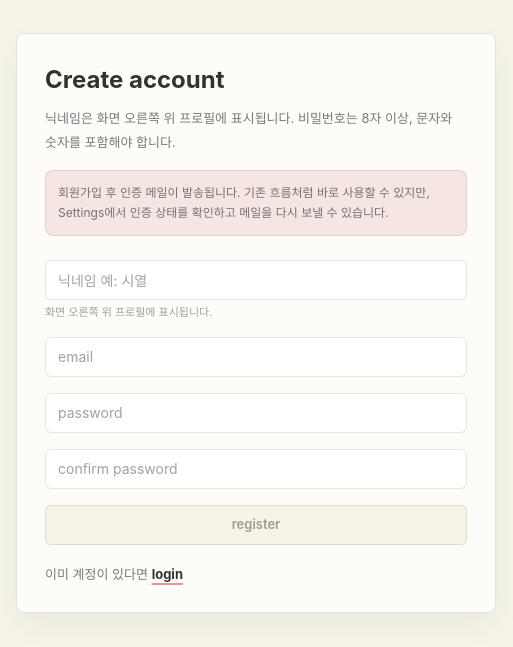
RegisterPage › requires nickname
Type "user@example.com" into the field with placeholder "email" at {"x": 256, "y": 356}, box [45,336,467,376]
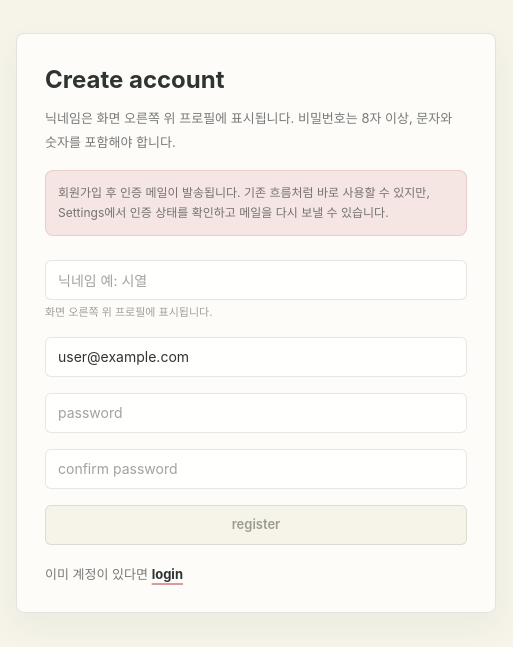
Type "password123" into the password field with placeholder "password" at {"x": 256, "y": 412}, box [45,392,467,432]
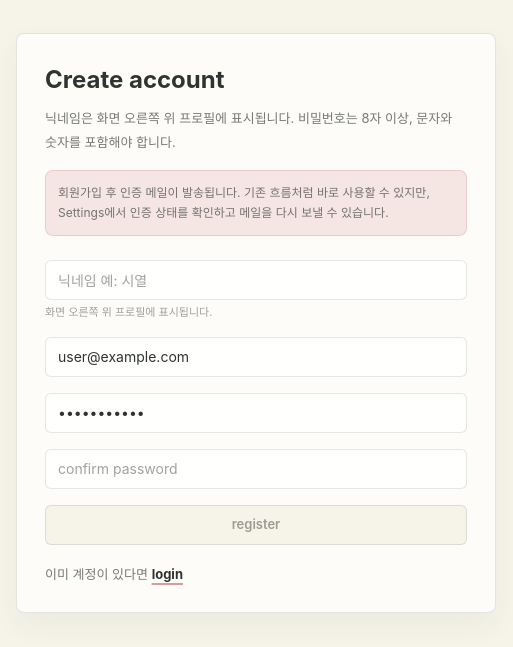
Type "password123" into the password field with placeholder "confirm password" at {"x": 256, "y": 468}, box [45,448,467,488]
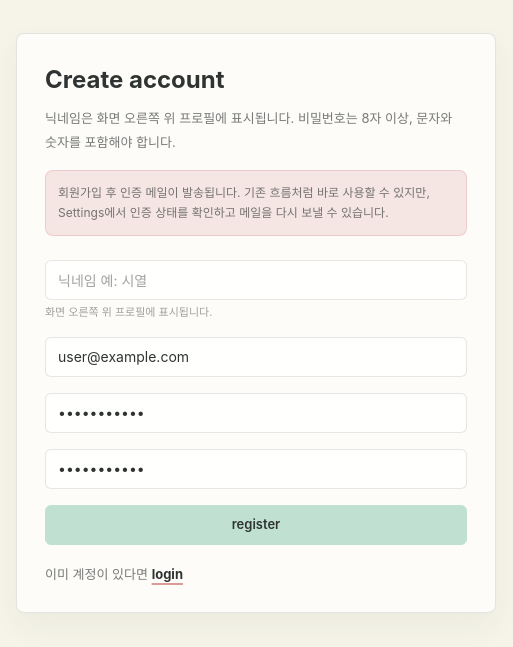
Click the button "register" at {"x": 256, "y": 524}, box [45,504,467,544]
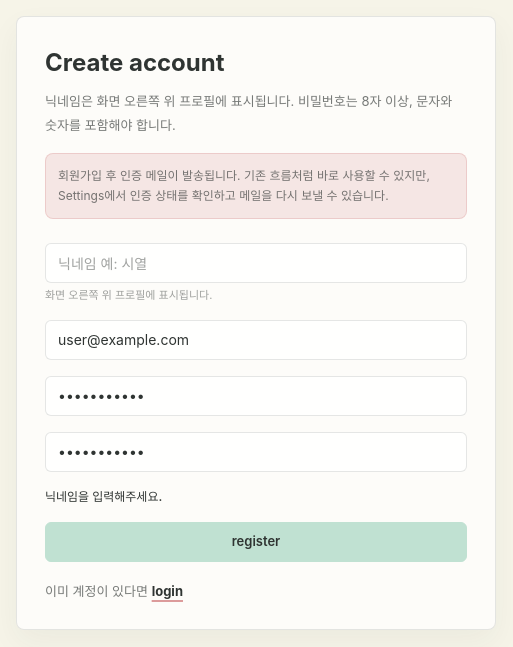
Expected: the text "닉네임을 입력해주세요." is shown, [45,488,162,504]
